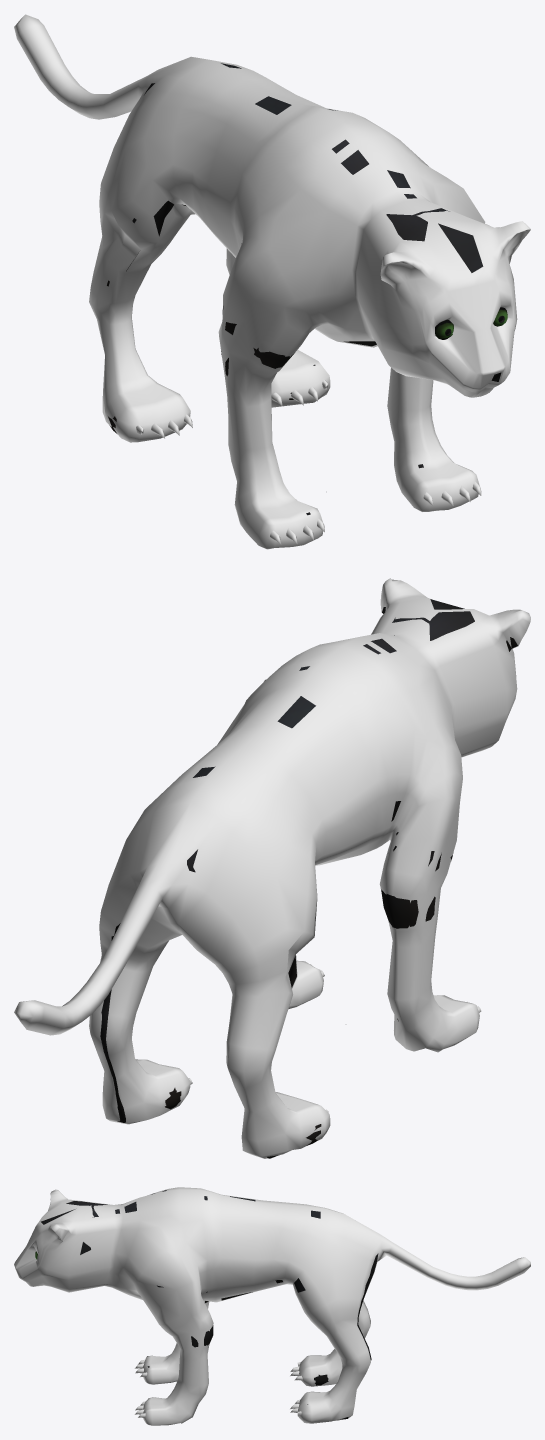
The model's file is panther.fbx.
3 renders of one model, top to bottom at view 1: azimuth 30°, elevation 25°; view 2: azimuth 150°, elevation 25°; view 3: azimuth 270°, elevation 25°, orthographic. The views are drawn at different scales.
Visible parts, largest first — view 1: panther_low, clows; view 2: panther_low; view 3: panther_low, clows.
Part boxes in pixels (bbox=[...]): panther_low: bbox=[14, 14, 530, 549]; clows: bbox=[136, 379, 481, 544]; panther_low: bbox=[14, 578, 530, 1158]; panther_low: bbox=[14, 1187, 530, 1425]; clows: bbox=[134, 1359, 302, 1417].
Bounding box in the file's own units: 85.16 × 142 × 320.
Materials: 3 (1 with a texture image).
